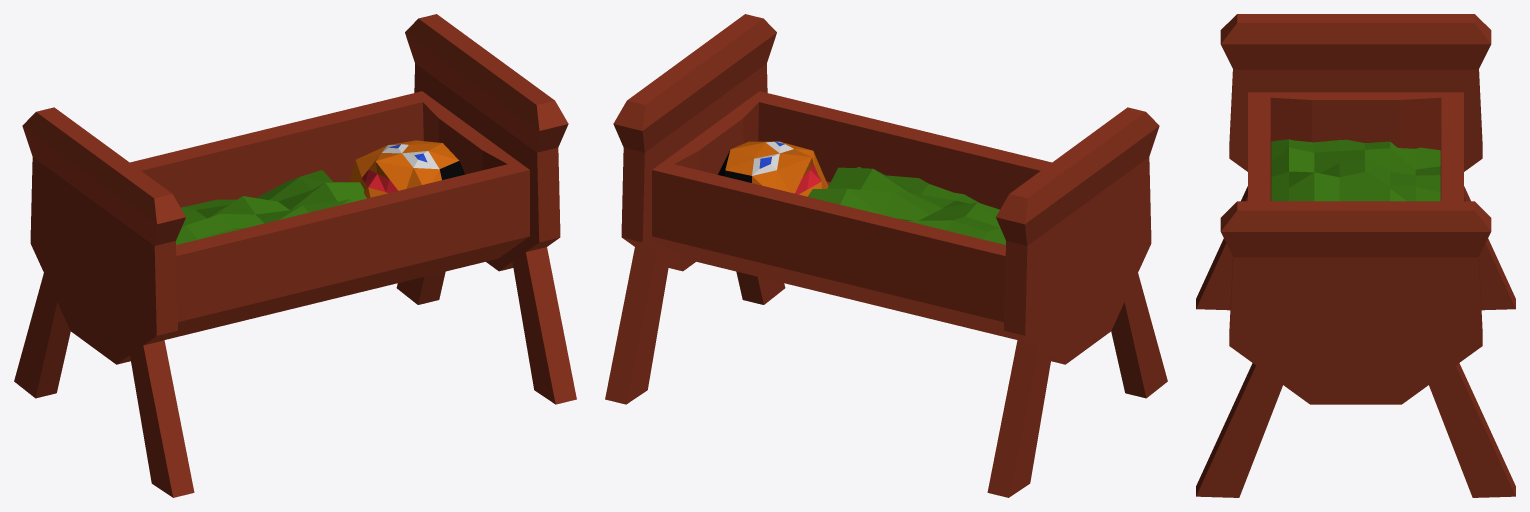
File: crib.fbx
3 renders of one model, left to right at view 1: azimuth 30°, elevation 25°; view 2: azimuth 150°, elevation 25°; view 3: azimuth 270°, elevation 25°, orthographic.
Parts seen in each view (by area): view 1: Cube, Plane, Icosphere; view 2: Cube, Plane, Icosphere; view 3: Cube, Plane.
Boxes of the visible parts, x1,y1,x2,y2 form: Cube: (14, 14, 576, 497); Plane: (176, 170, 366, 244); Icosphere: (349, 140, 464, 198); Cube: (605, 14, 1167, 497); Plane: (808, 167, 1005, 244); Icosphere: (717, 141, 828, 196); Cube: (1196, 14, 1515, 497); Plane: (1271, 139, 1440, 201).
Bounding box in the file's own units: 769 × 510 × 515.
